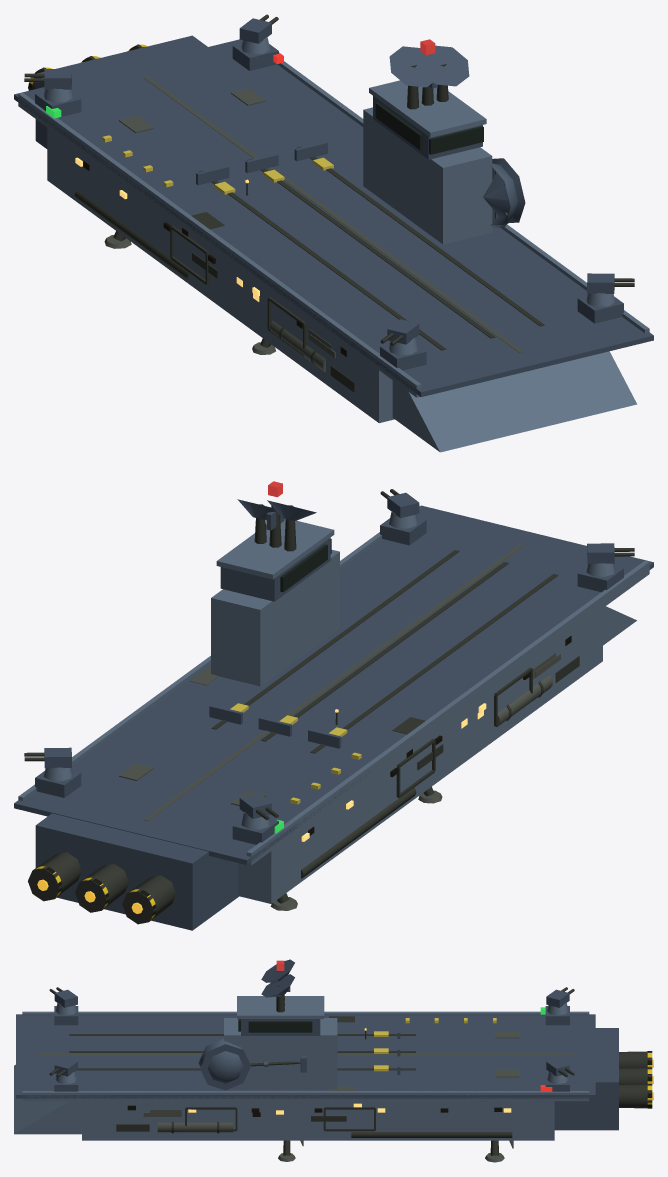
The model's file is carrier-l.glb.
3 renders of one model, top to bottom at view 1: azimuth 30°, elevation 25°; view 2: azimuth 150°, elevation 25°; view 3: azimuth 270°, elevation 25°, orthographic. The views are drawn at different scales.
Parts seen in each view (by area): view 1: flightDeck, hullMain, hullBow, hullNose, deckEdgeL, islandRoof, hullStern, accentStripe, deckEdgeR, islandDish0, commDishBackshell, launchRail1 (+12 smaller); view 2: flightDeck, hullMain, hullStern, hullNose, deckEdgeL, engineHousing (×3), islandRoof, accentStripe, bridgeCab, deckEdgeR, launchRail0, launchRail1 (+9 smaller); view 3: flightDeck, hullMain, hullNose, deckEdgeR, hullStern, hullBow, deckEdgeL, islandRoof, engineHousing (×3), accentStripe, commDish, carrierShiphullMainServicePipeR (+13 smaller).
Boxes of the visible parts, left/top/right/bottom form: flightDeck: left=14, top=39, right=653, bottom=397; hullMain: left=47, top=127, right=394, bottom=423; hullBow: left=392, top=351, right=637, bottom=452; hullNose: left=363, top=107, right=492, bottom=244; deckEdgeL: left=18, top=93, right=421, bottom=397; islandRoof: left=369, top=80, right=486, bottom=137; hullStern: left=35, top=35, right=207, bottom=148; accentStripe: left=144, top=76, right=523, bottom=352; deckEdgeR: left=277, top=61, right=649, bottom=333; islandDish0: left=389, top=46, right=439, bottom=87; commDishBackshell: left=483, top=158, right=525, bottom=223; launchRail1: left=247, top=159, right=495, bottom=338; flightDeck: left=14, top=505, right=653, bottom=864; hullMain: left=237, top=608, right=602, bottom=903; hullStern: left=35, top=813, right=238, bottom=930; hullNose: left=211, top=550, right=339, bottom=686; deckEdgeL: left=246, top=560, right=649, bottom=865; engineHousing (×3): left=28, top=852, right=175, bottom=924; islandRoof: left=216, top=519, right=334, bottom=579; accentStripe: left=143, top=544, right=524, bottom=820; bridgeCab: left=220, top=537, right=330, bottom=601; deckEdgeR: left=18, top=505, right=421, bottom=800; launchRail0: left=310, top=574, right=558, bottom=753; launchRail1: left=261, top=562, right=508, bottom=741; flightDeck: left=16, top=1014, right=595, bottom=1098; hullMain: left=82, top=1101, right=554, bottom=1140; hullNose: left=224, top=1018, right=337, bottom=1089; deckEdgeR: left=22, top=1091, right=589, bottom=1101; hullStern: left=554, top=1028, right=618, bottom=1130; hullBow: left=14, top=1064, right=81, bottom=1134; deckEdgeL: left=22, top=1011, right=589, bottom=1015; islandRoof: left=237, top=996, right=324, bottom=1018; engineHousing (×3): left=619, top=1051, right=652, bottom=1108; accentStripe: left=38, top=1053, right=573, bottom=1055; commDish: left=198, top=1038, right=243, bottom=1083; carrierShiphullMainServicePipeR: left=351, top=1132, right=512, bottom=1137.
Size of the model in its own units: 4.31 by 4.41 by 13.2.
